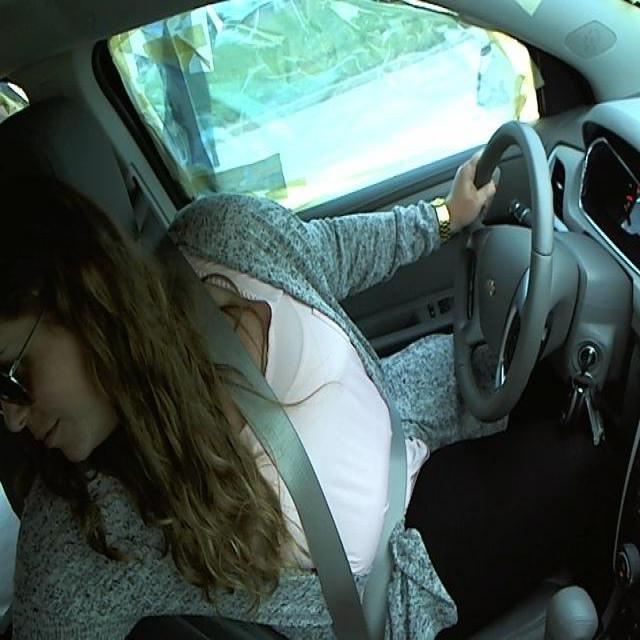seatbelt: (174, 280, 426, 631)
